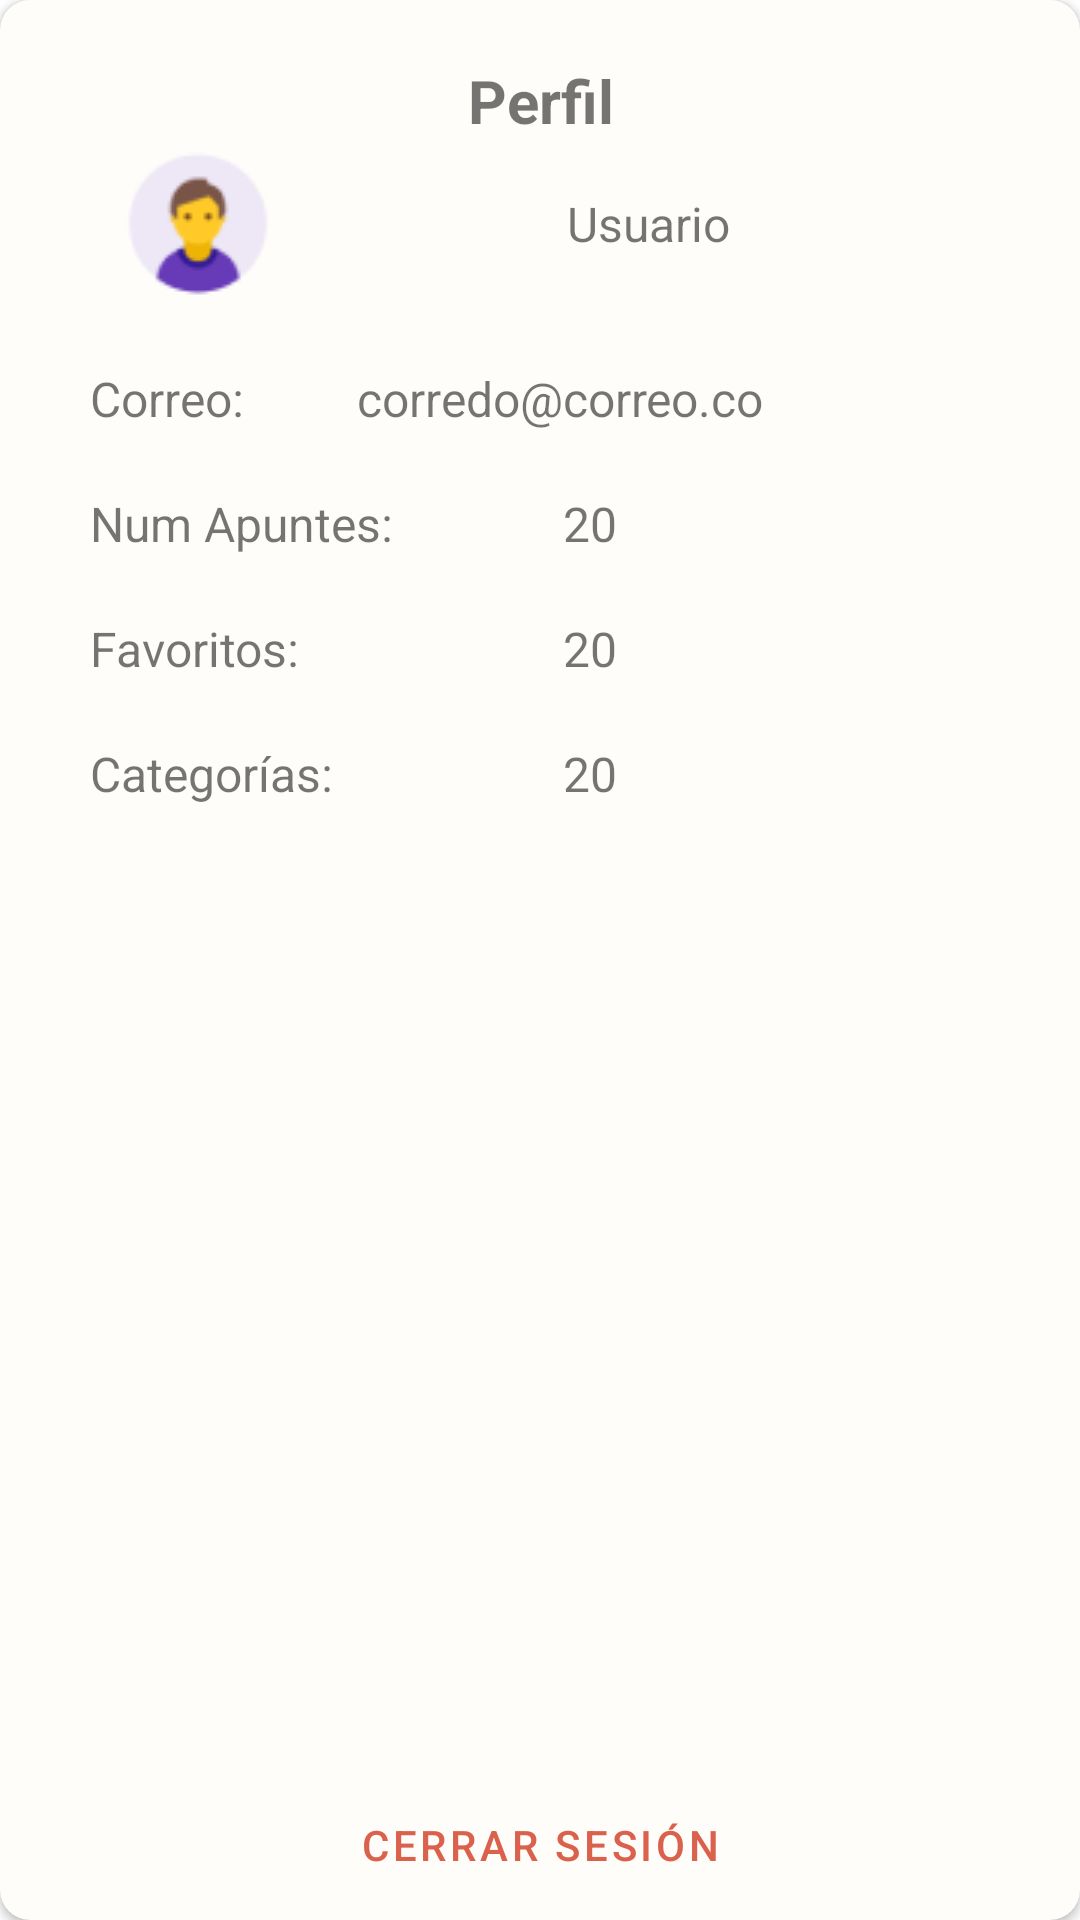

Locate icon controls on the screen. Image size 1080px×1920px, boxes as box=[x1, y1, x2, y2].
profile: box=[155, 176, 241, 295]
